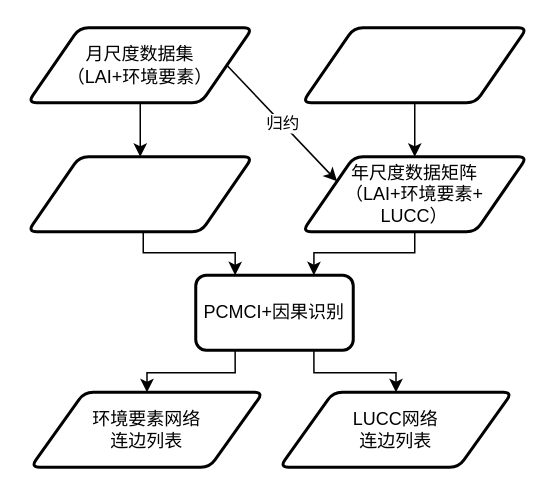
The diagram is 554 pixels wide and 494 high, and some of its shapes have lost their labels. The shapes that lost their labels are listed below. From the top down, each one's box as (x1, y1, x2, y2) in pixels, then its label:
(300, 26, 528, 104): 年尺度数据集 （LAI+LUCC）
(26, 154, 254, 232): 月尺度数据矩阵 （LAI+环境要素）
